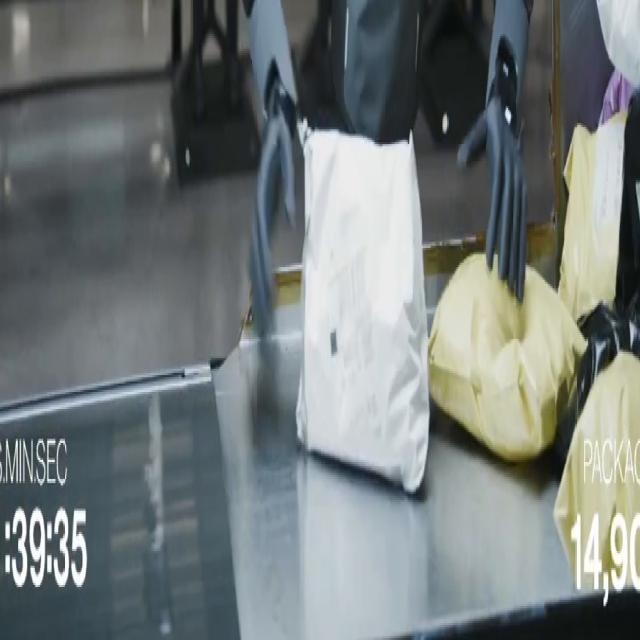package: (297, 130, 429, 493), (553, 100, 639, 474), (429, 255, 585, 461), (554, 352, 639, 593), (553, 299, 639, 476), (559, 113, 625, 319), (616, 94, 639, 313), (597, 0, 639, 86), (599, 70, 633, 127)
